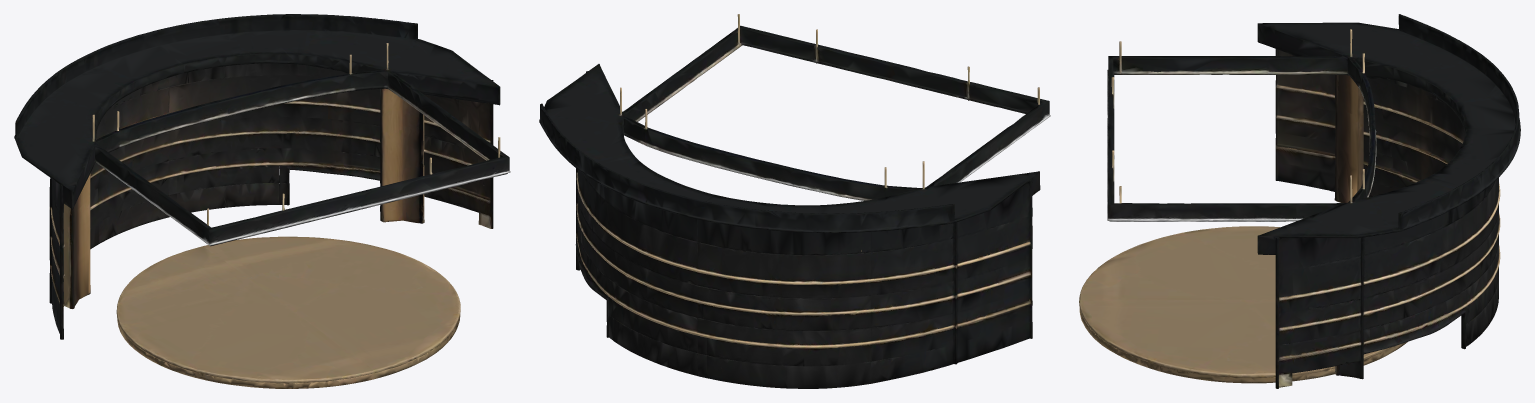
The model's file is stage-platform.fe76e38e.glb.
3 views of the same model, side by side, from view 1: azimuth 30°, elevation 25°; view 2: azimuth 150°, elevation 25°; view 3: azimuth 270°, elevation 25° (orthographic). The views are drawn at different scales.
Visible parts, largest first — view 1: tripo_node_9c239414-db78-4e8c-b370-50ce7d6015a7; view 2: tripo_node_9c239414-db78-4e8c-b370-50ce7d6015a7; view 3: tripo_node_9c239414-db78-4e8c-b370-50ce7d6015a7.
Part boxes in pixels (box(x1,y1,x2,y2)): tripo_node_9c239414-db78-4e8c-b370-50ce7d6015a7: box(14, 14, 510, 388); tripo_node_9c239414-db78-4e8c-b370-50ce7d6015a7: box(539, 14, 1050, 388); tripo_node_9c239414-db78-4e8c-b370-50ce7d6015a7: box(1079, 14, 1520, 388).
Size of the model in its own units: 0.9803 by 0.4538 by 0.8499.
Materials: 1 (1 with a texture image).
